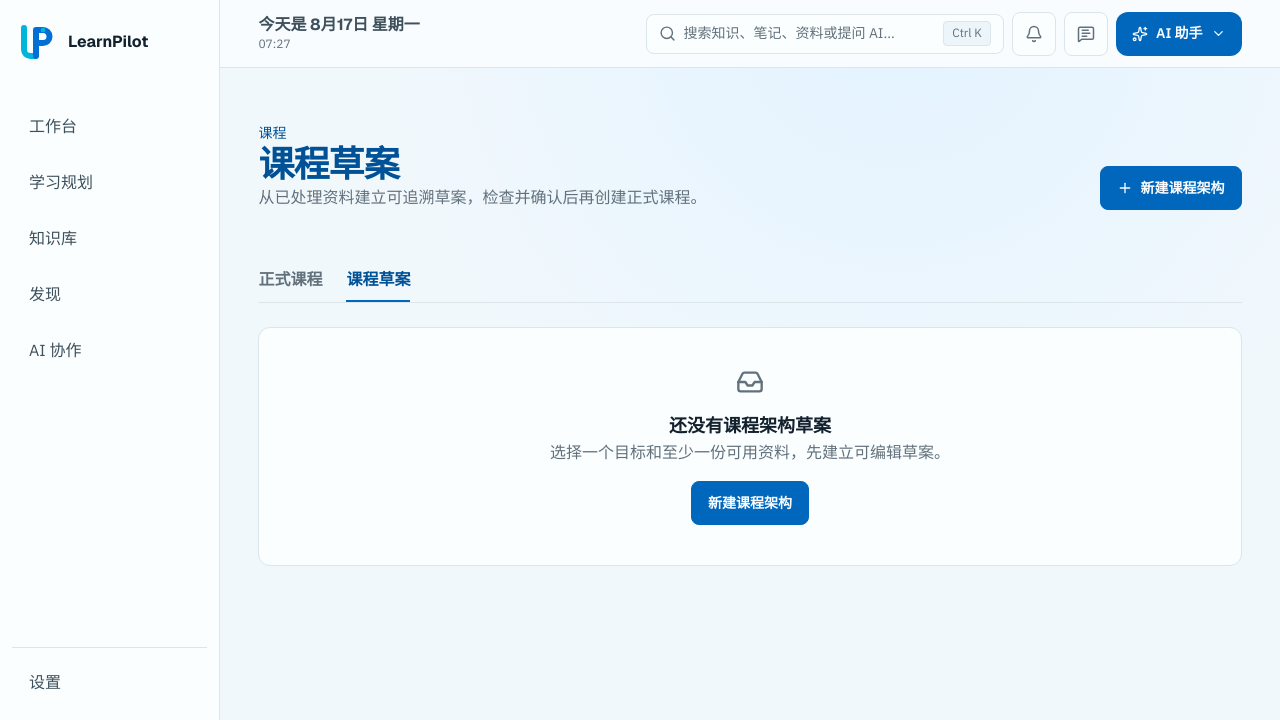
Test: V9 课程架构草案 › 在课程内切换草案并只允许选择真实可用资料
expect the heading "课程草案" is shown: met, box [258,141,399,188]
Click the button "新建课程架构" in the row of "从已处理资料建立可追溯草案，检查并确认后再创建正式课程。": (1171, 188) [1100,166,1242,210]
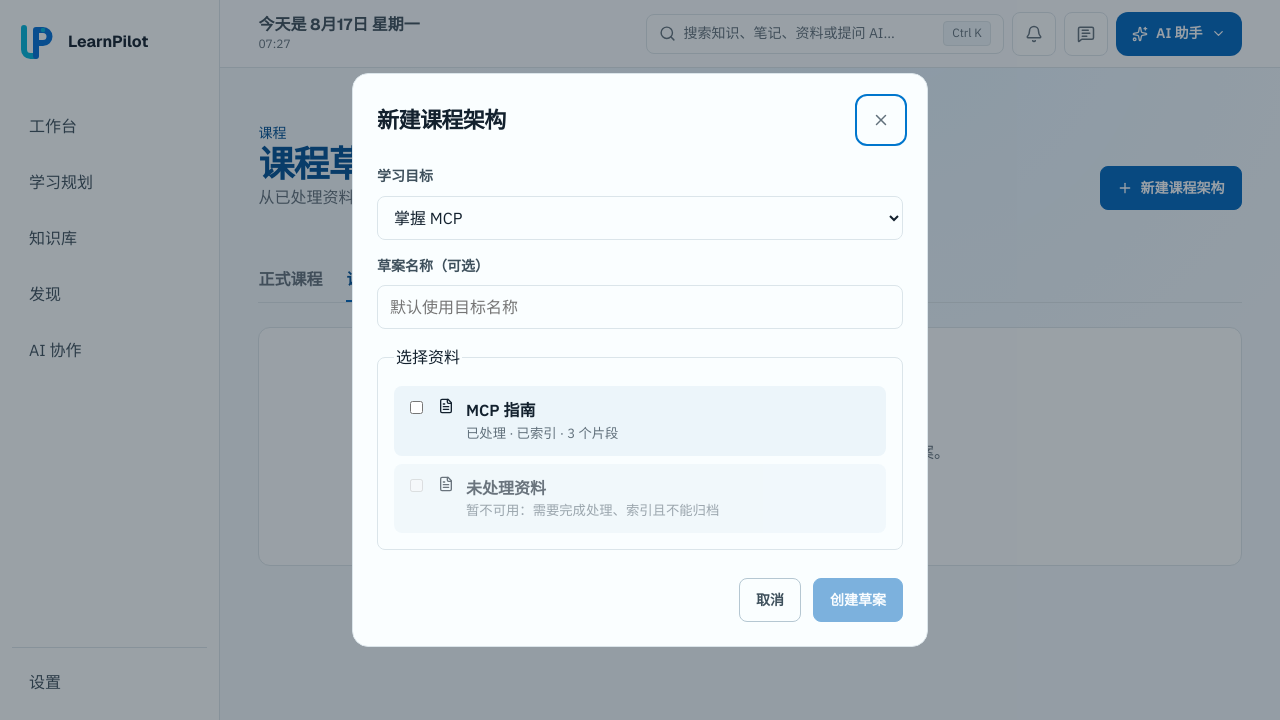
expect the text "暂不可用：需要完成处理、索引且不能归档" is shown: met, box [466,501,719,519]
expect the checkbox labelled "未处理资料 暂不可用：需要完成处理、索引且不能归档" is disabled: met, box [410,479,423,492]
Click the checkbox labelled "MCP 指南 已处理 · 已索引 · 3 个片段": (416, 408) [410,401,423,414]
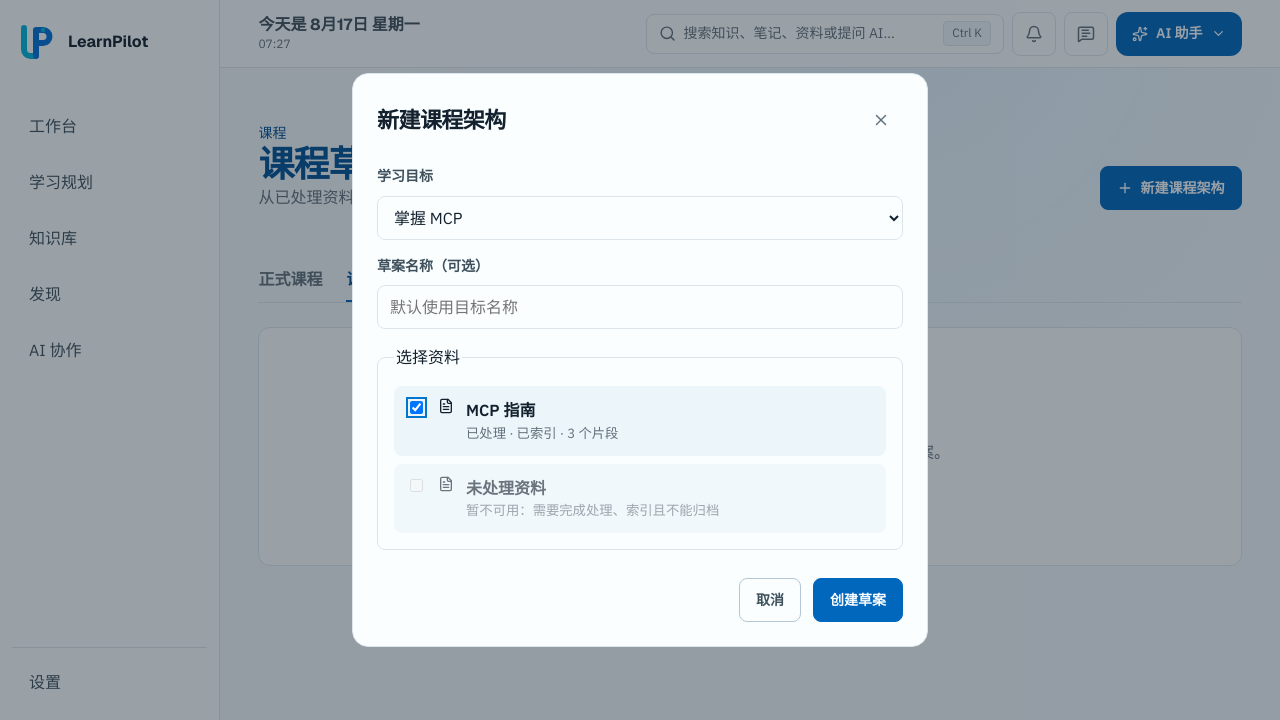
Click the button "创建草案": (858, 600) [813,578,903,622]
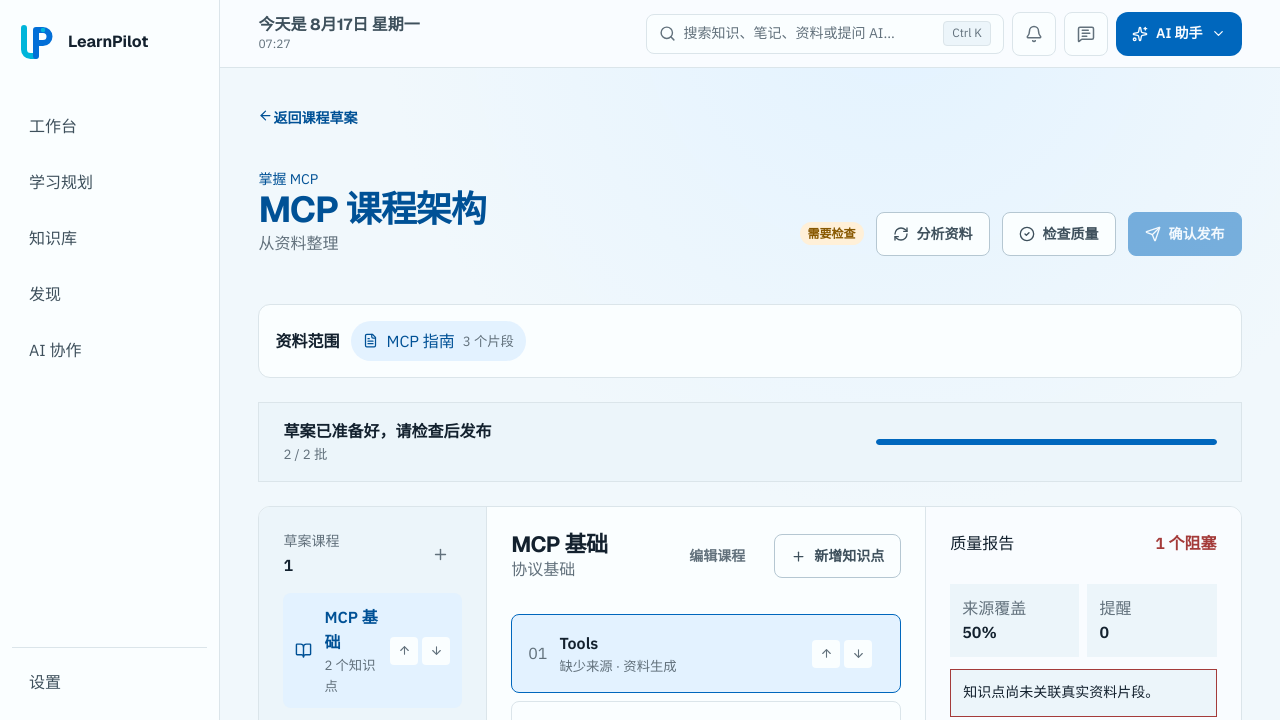
expect the heading "MCP 课程架构" is shown: met, box [258,186,486,234]
